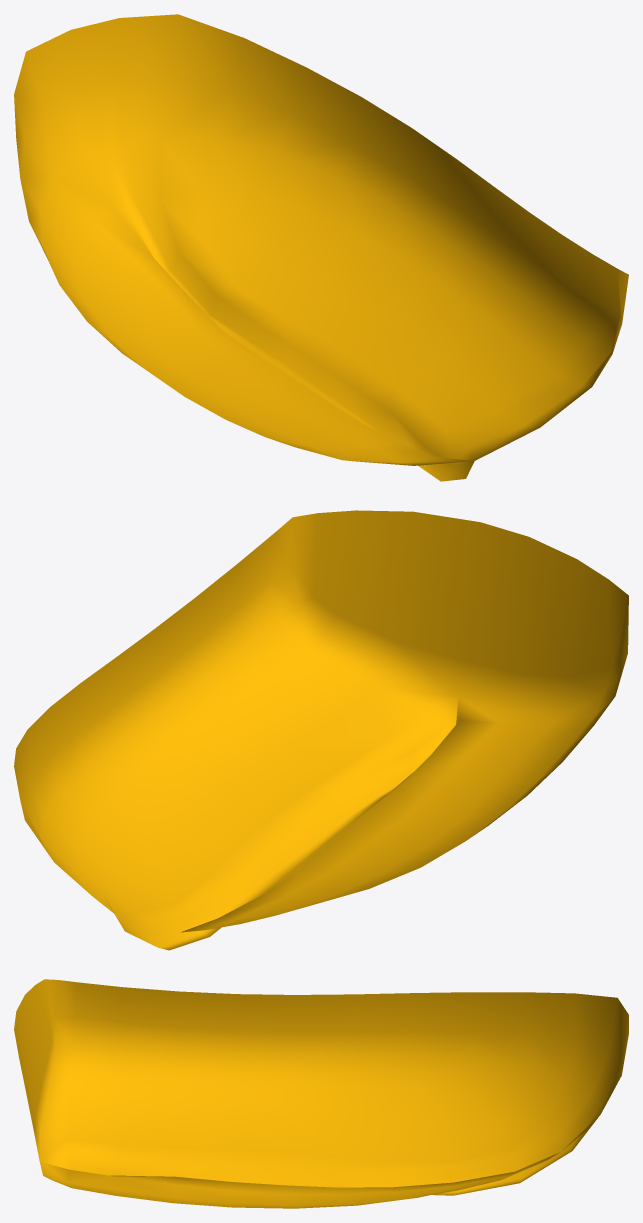
The model's file is OUTFITTING_INTERIOR__portland pudgy__PORTLAND PUDGY SIMPLIFIED.glb.
The picture shows the model from 3 angles, top to bottom: view 1: azimuth 30°, elevation 25°; view 2: azimuth 150°, elevation 25°; view 3: azimuth 270°, elevation 25°; orthographic projection. The views are drawn at different scales.
Parts seen in each view (by area): view 1: PORTLAND PUDGY SIMPLIFIED; view 2: PORTLAND PUDGY SIMPLIFIED; view 3: PORTLAND PUDGY SIMPLIFIED.
Boxes of the visible parts, box(x1,y1,x2,y2) form: PORTLAND PUDGY SIMPLIFIED: box(14, 14, 628, 481); PORTLAND PUDGY SIMPLIFIED: box(14, 510, 628, 950); PORTLAND PUDGY SIMPLIFIED: box(14, 979, 628, 1208).
Bounding box in the file's own units: 1.34 × 0.7099 × 2.34.
